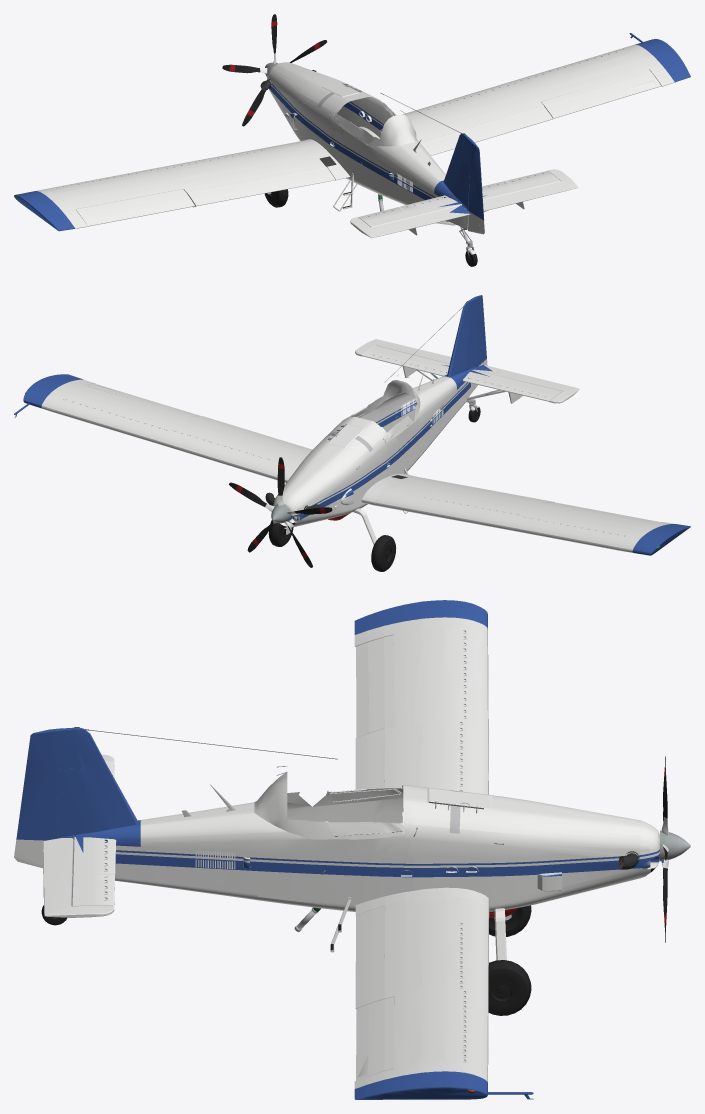
The model's file is exterior_cupula.glb.
The picture shows the model from 3 angles, top to bottom: view 1: azimuth 30°, elevation 25°; view 2: azimuth 150°, elevation 25°; view 3: azimuth 270°, elevation 25°; orthographic projection. The views are drawn at different scales.
Visible parts, largest first — view 1: exterior; view 2: exterior; view 3: exterior.
Part boxes in pixels (left/top/right/bottom): exterior: left=14, top=14, right=690, bottom=266; exterior: left=14, top=295, right=690, bottom=571; exterior: left=14, top=600, right=690, bottom=1099.
Size of the model in its own units: 18.06 by 4.29 by 10.61.
Materials: 24 (4 with a texture image).
